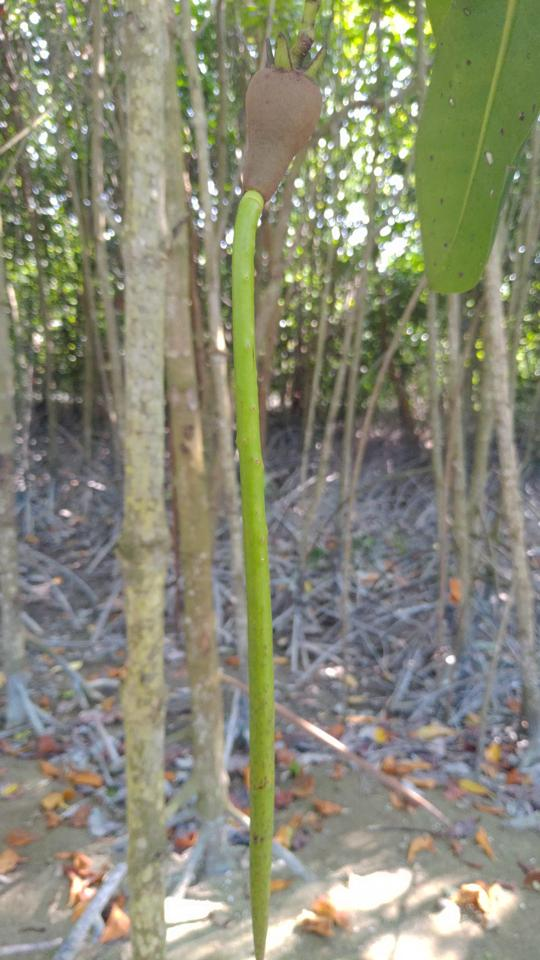setengah matang: (226, 22, 334, 958)
